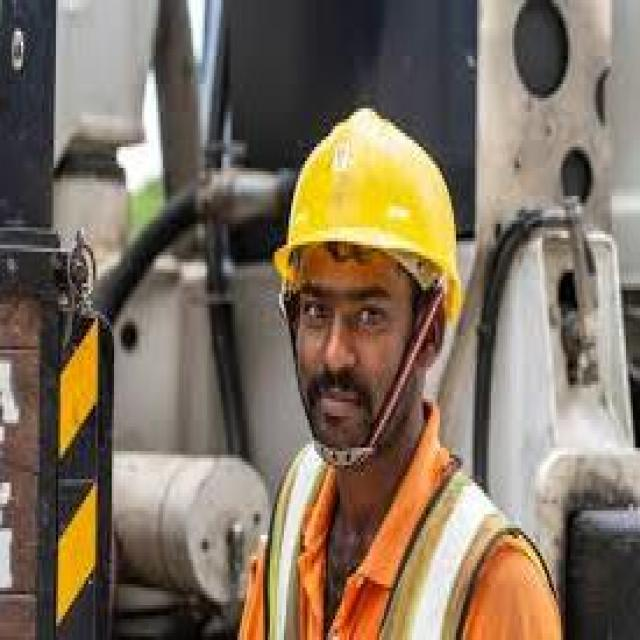Reflective-Jacket: (258, 433, 563, 640)
Safety-Helmet: (265, 102, 475, 318)
